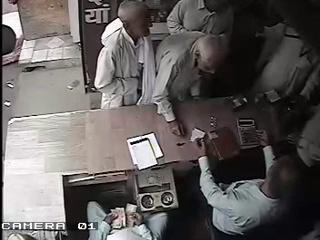Normal: (196, 97, 320, 239), (150, 32, 230, 137), (167, 0, 210, 35)
shoplifting: (94, 0, 156, 110)
